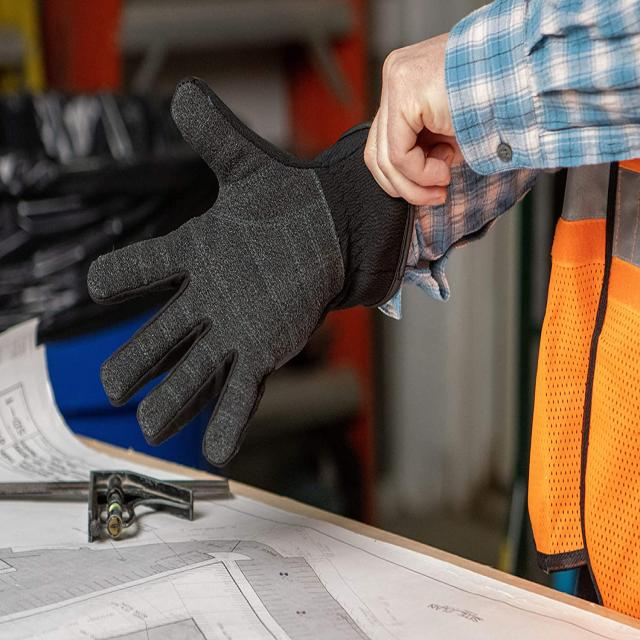gloves: (87, 79, 421, 470)
